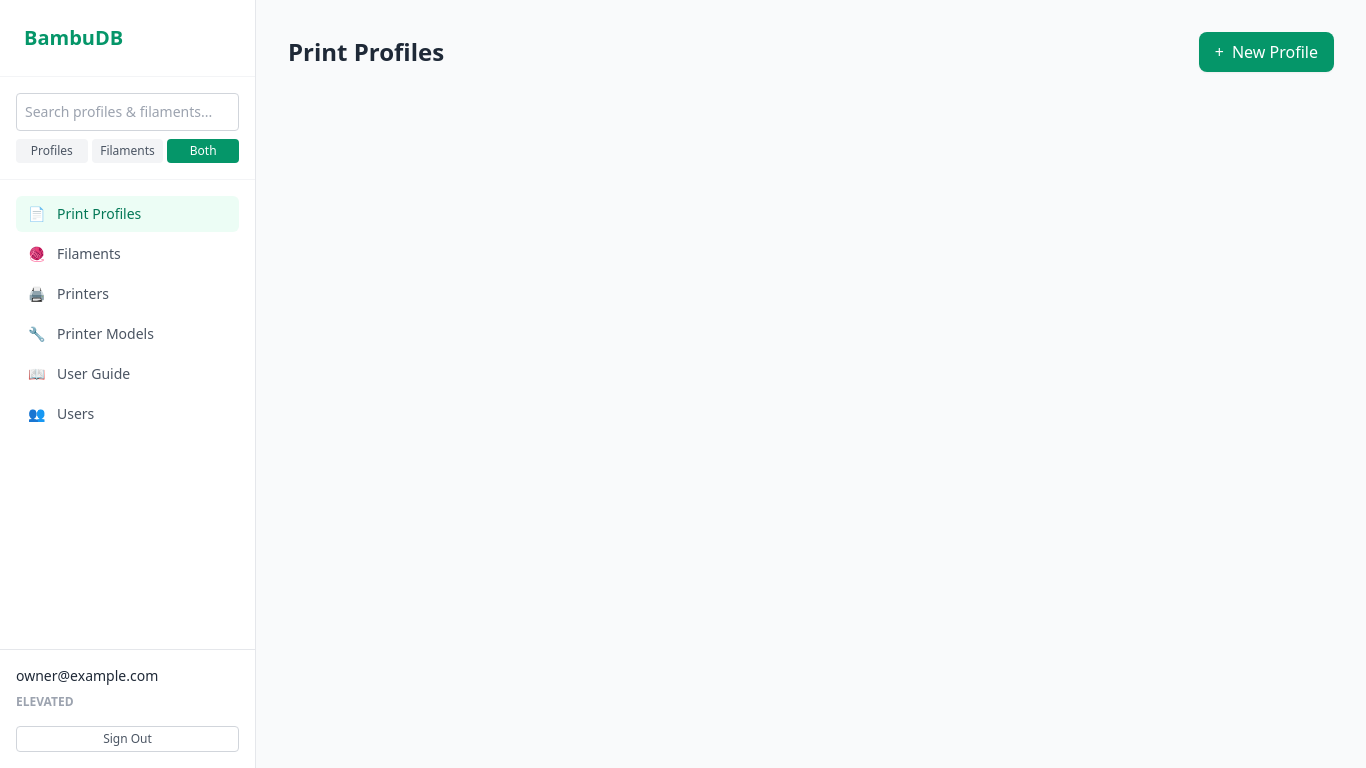
App.vue — access levels › shows the Users nav item and lists other users for an elevated user
Click the button "👥 Users". click: (128, 414)
box: [16,396,239,432]
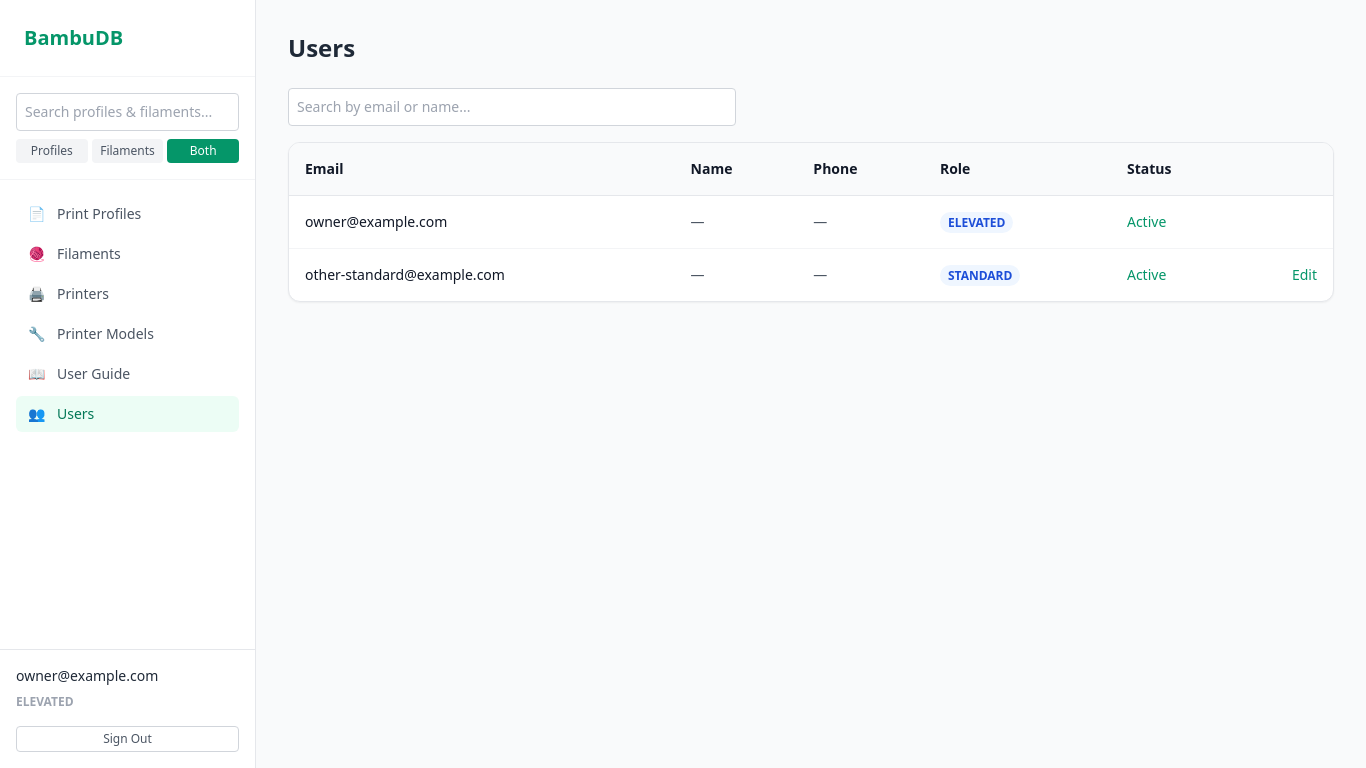
Check: the text "other-standard@example.com" is shown, box [289,248,674,301]
